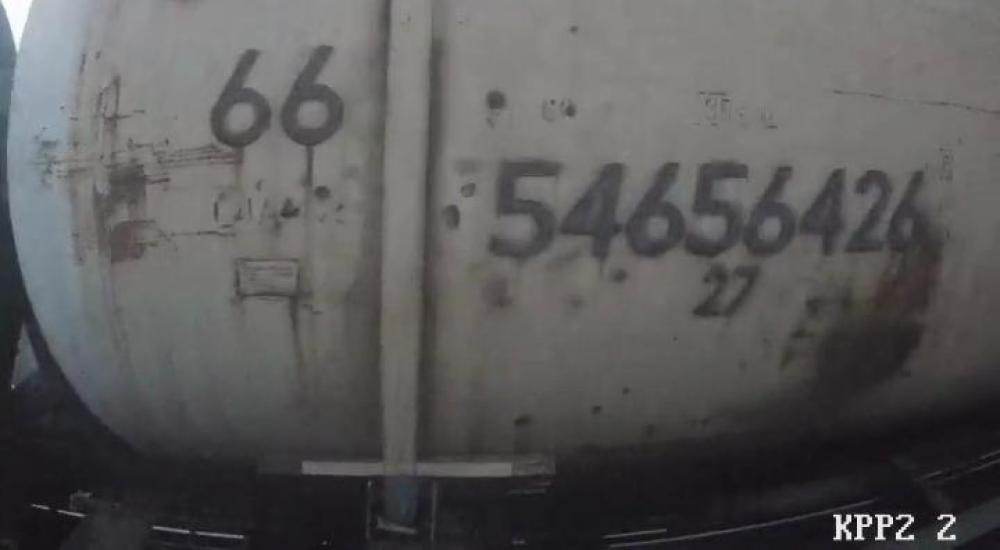Wagon-number: (484, 151, 933, 266)
